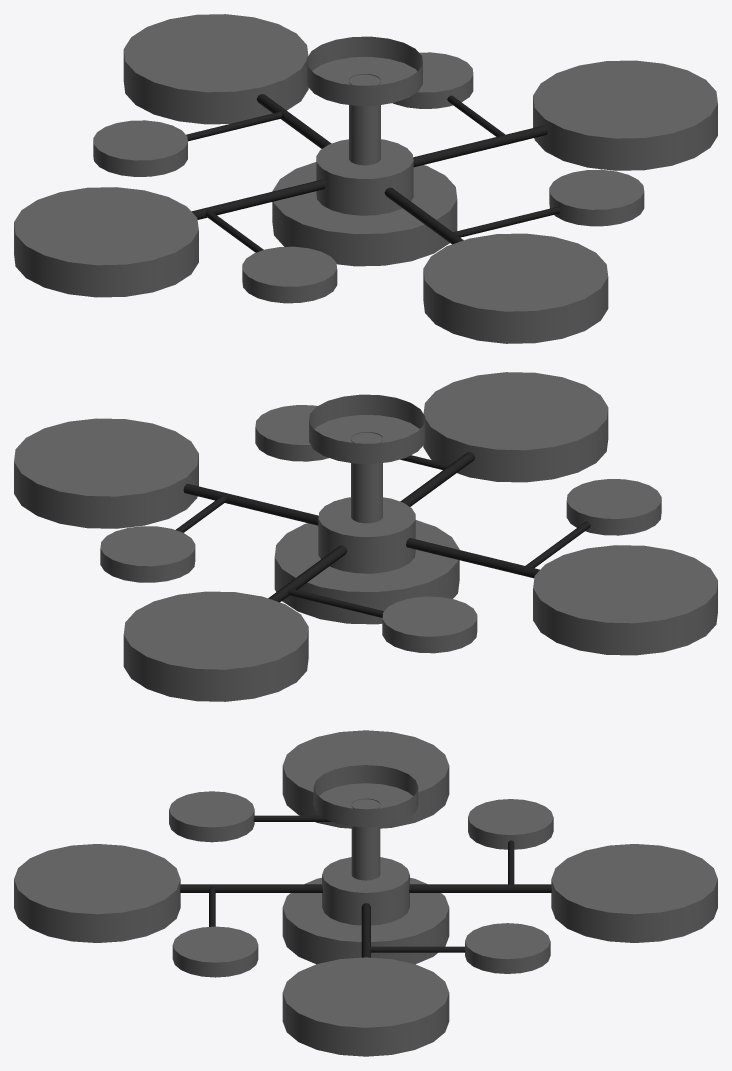
Rendered from lamp2.FBX.
3 renders of one model, top to bottom at view 1: azimuth 30°, elevation 25°; view 2: azimuth 150°, elevation 25°; view 3: azimuth 270°, elevation 25°, orthographic. The views are drawn at different scales.
Visible parts, largest first — view 1: lamp2; view 2: lamp2; view 3: lamp2.
Part boxes in pixels (x1=…): lamp2: x1=14, y1=14, x2=717, y2=343; lamp2: x1=14, y1=372, x2=717, y2=701; lamp2: x1=14, y1=730, x2=717, y2=1056.
Size of the model in its own units: 67.86 by 67.86 by 15.84.
